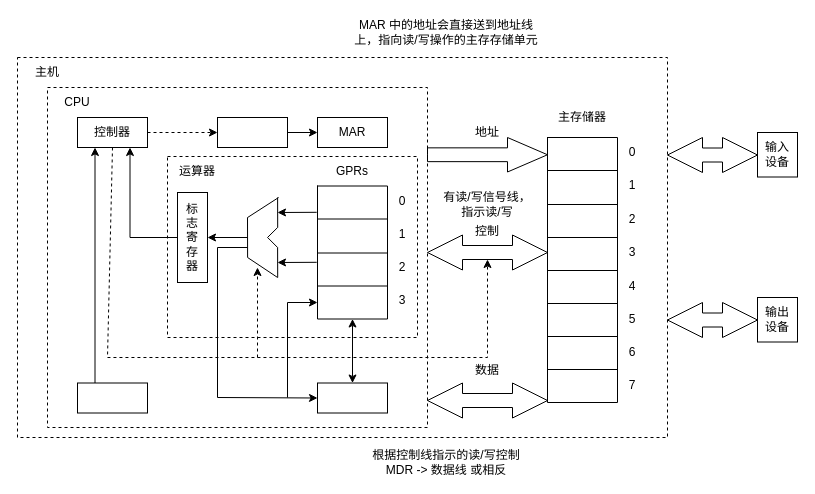
Image size: 815x494. Some labels were removed from this diagram. Here are the shapes that lost their labels. From the top down, the box of each, then its label:
(216, 116, 288, 148): PC
(76, 382, 148, 413): IR
(316, 382, 388, 413): MDR
